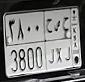0: (26, 26, 36, 71), (35, 25, 44, 69)
3: (8, 17, 18, 74)
8: (18, 17, 27, 72)
J: (45, 18, 56, 66), (63, 16, 72, 63)
X: (55, 20, 63, 64)
